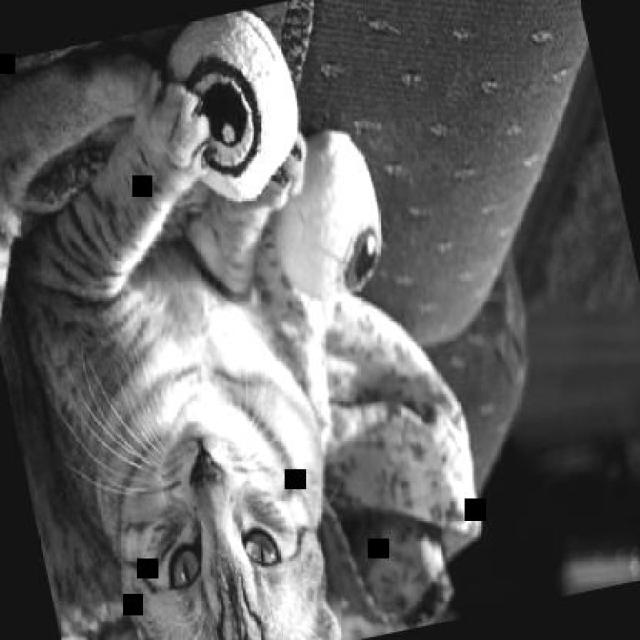cat: (0, 12, 409, 638)
